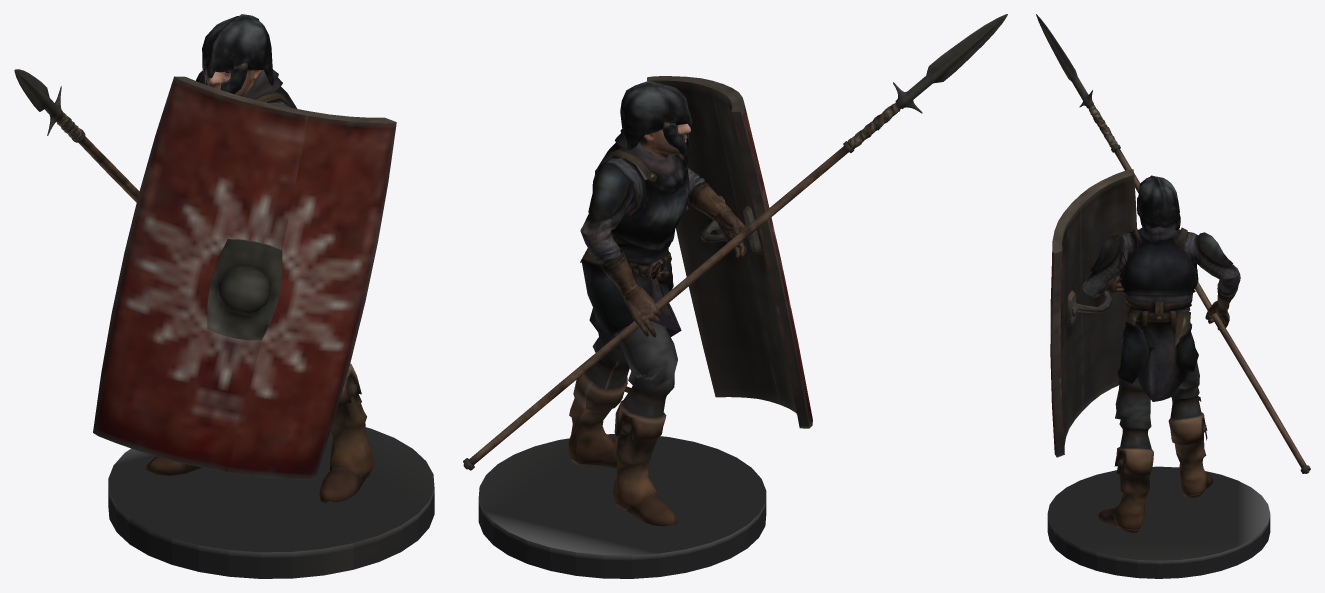
3 views of the same model, side by side, from view 1: azimuth 30°, elevation 25°; view 2: azimuth 150°, elevation 25°; view 3: azimuth 270°, elevation 25° (orthographic). The views are drawn at different scales.
Visible parts, largest first — view 1: winged_spear.smd; view 2: winged_spear.smd; view 3: winged_spear.smd.
Boxes of the visible parts, left/top/right/bottom form: winged_spear.smd: left=14, top=14, right=434, bottom=578; winged_spear.smd: left=463, top=14, right=1007, bottom=578; winged_spear.smd: left=1036, top=14, right=1310, bottom=578.
Bounding box in the file's own units: 1.73 × 1.99 × 1.23.
Materials: 1 (1 with a texture image).
